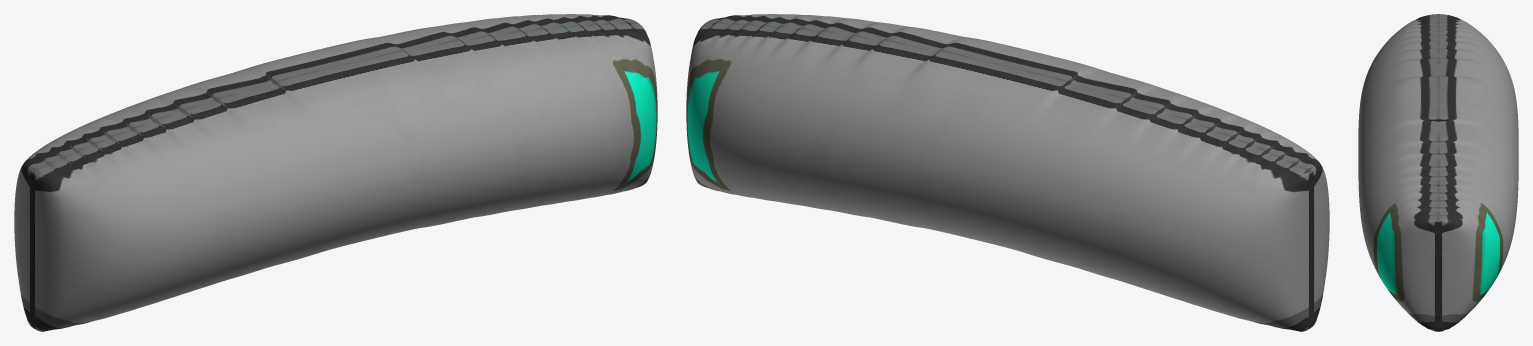
File: indicator_wall_panel.glb
3 views of the same model, side by side, from view 1: azimuth 30°, elevation 25°; view 2: azimuth 150°, elevation 25°; view 3: azimuth 270°, elevation 25° (orthographic). The views are drawn at different scales.
Parts seen in each view (by area): view 1: indicator_wall_panel; view 2: indicator_wall_panel; view 3: indicator_wall_panel.
Boxes of the visible parts, x1,y1,x2,y2 form: indicator_wall_panel: (14, 14, 657, 331); indicator_wall_panel: (686, 14, 1329, 331); indicator_wall_panel: (1358, 14, 1518, 331).
Bounding box in the file's own units: 0.989 × 0.294 × 0.3219.
Materials: 1 (1 with a texture image).
